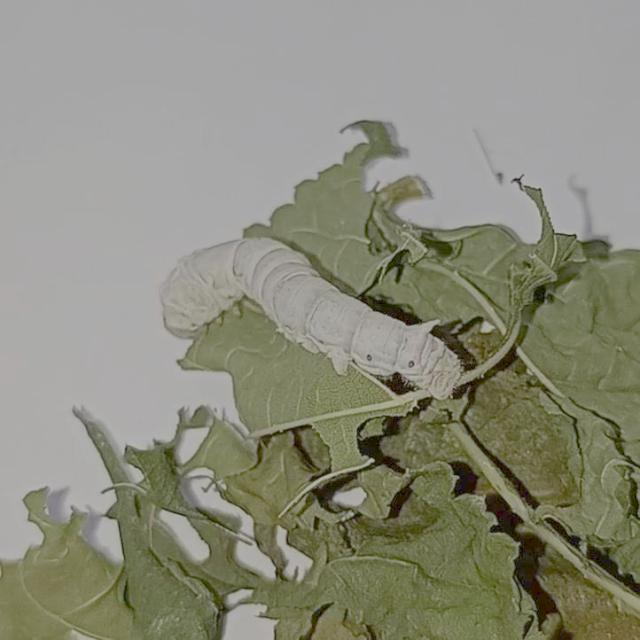Healthy: (156, 227, 472, 409)
